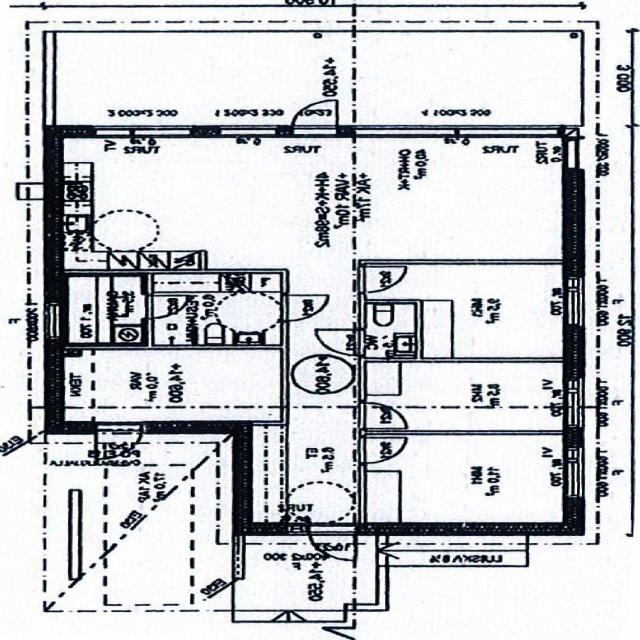door: (310, 523, 358, 565), (96, 421, 143, 462), (293, 100, 337, 138), (316, 329, 366, 355), (280, 295, 330, 320), (358, 403, 407, 428), (358, 438, 406, 462), (358, 267, 406, 291), (144, 295, 190, 318)
